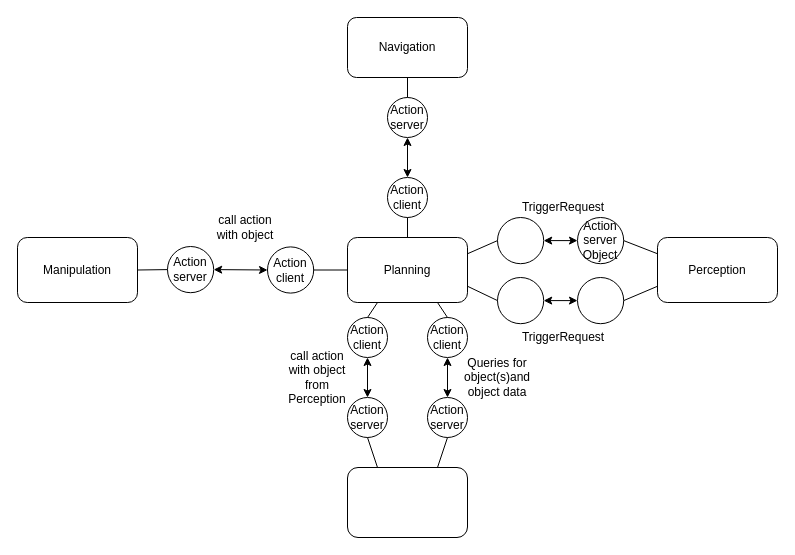
The diagram is 795 pixels wide and 555 high, and some of its shapes have lost their labels. Each missing label, with the centre of its shape:
"Action client object" belongs at pixel 520 240.
"Action client plane" belongs at pixel 520 300.
"Action server plane" belongs at pixel 600 300.
"Knowledge" belongs at pixel 407 502.
